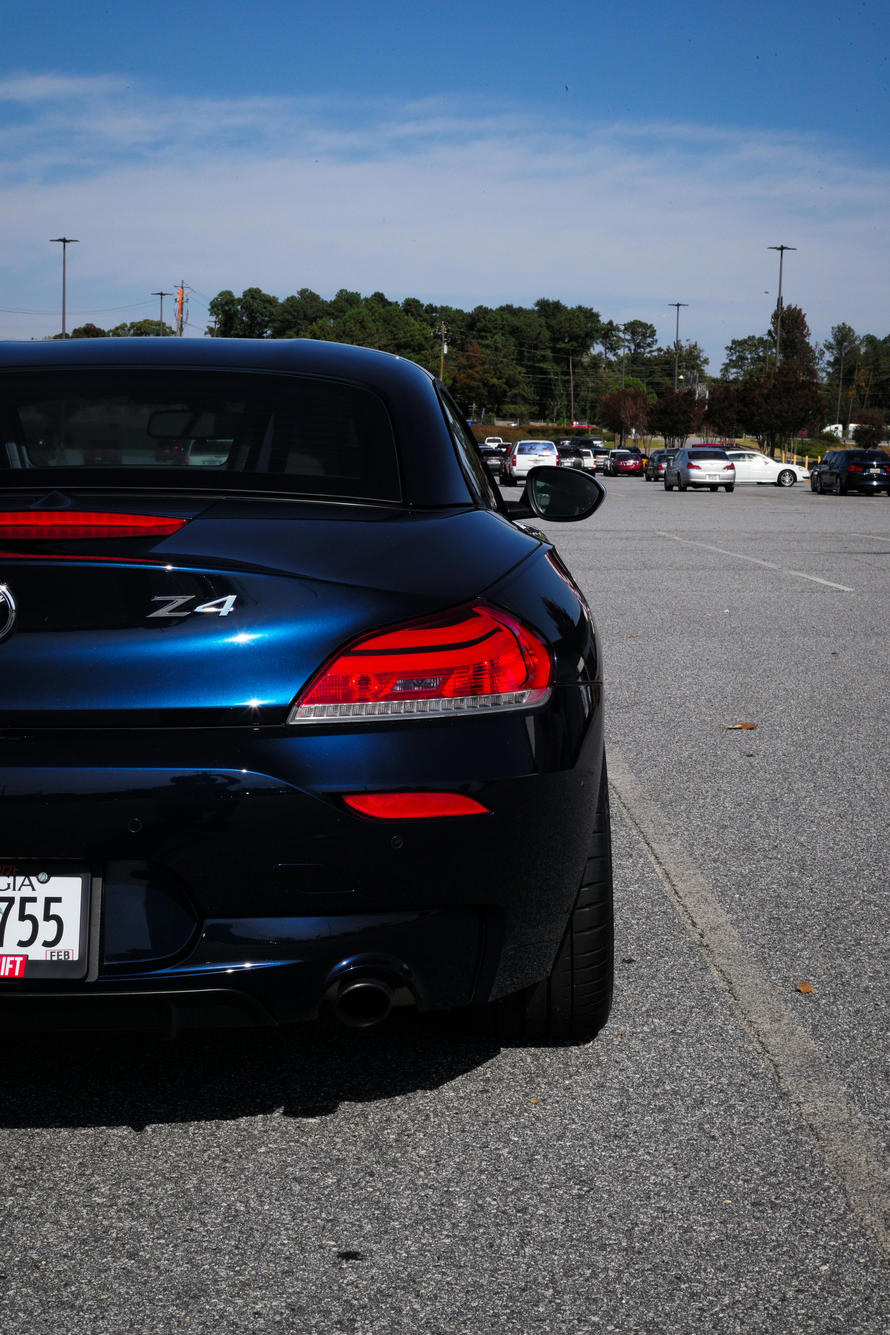other: (0, 329, 649, 1105), (807, 443, 889, 521), (732, 440, 813, 497), (664, 438, 733, 497), (506, 438, 566, 485), (604, 440, 649, 478)
